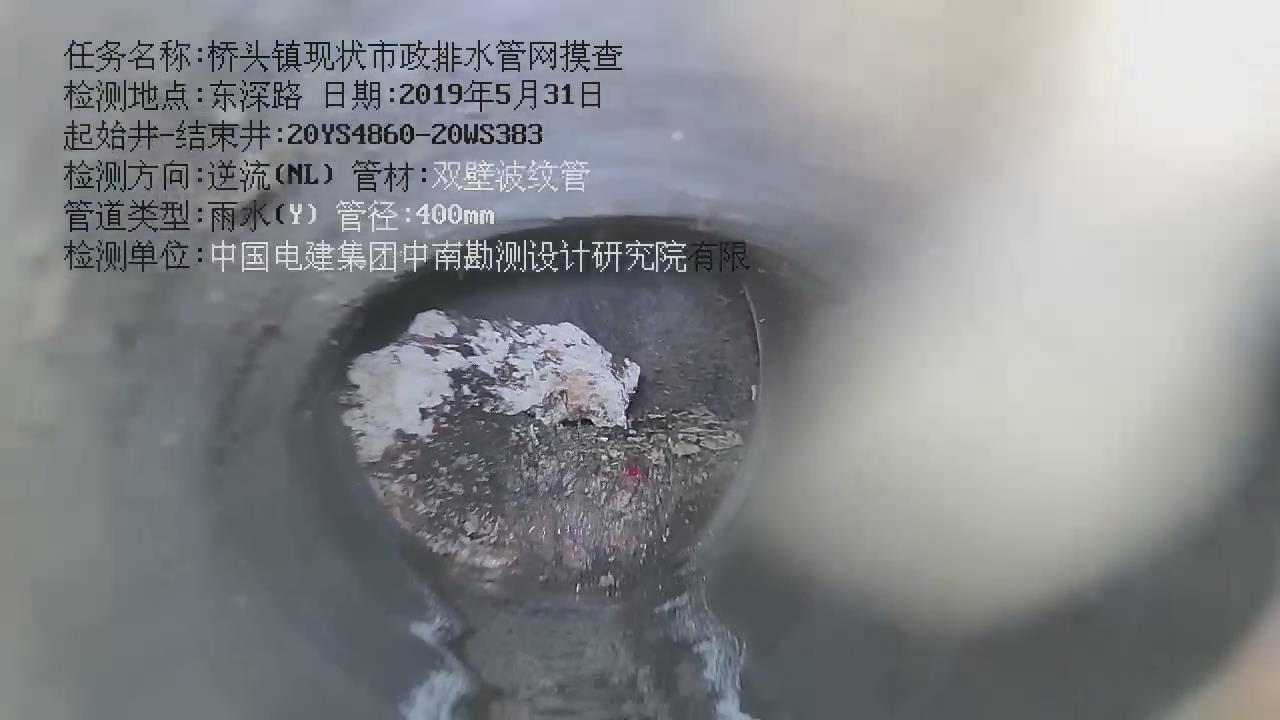BX: (292, 202, 832, 383)
